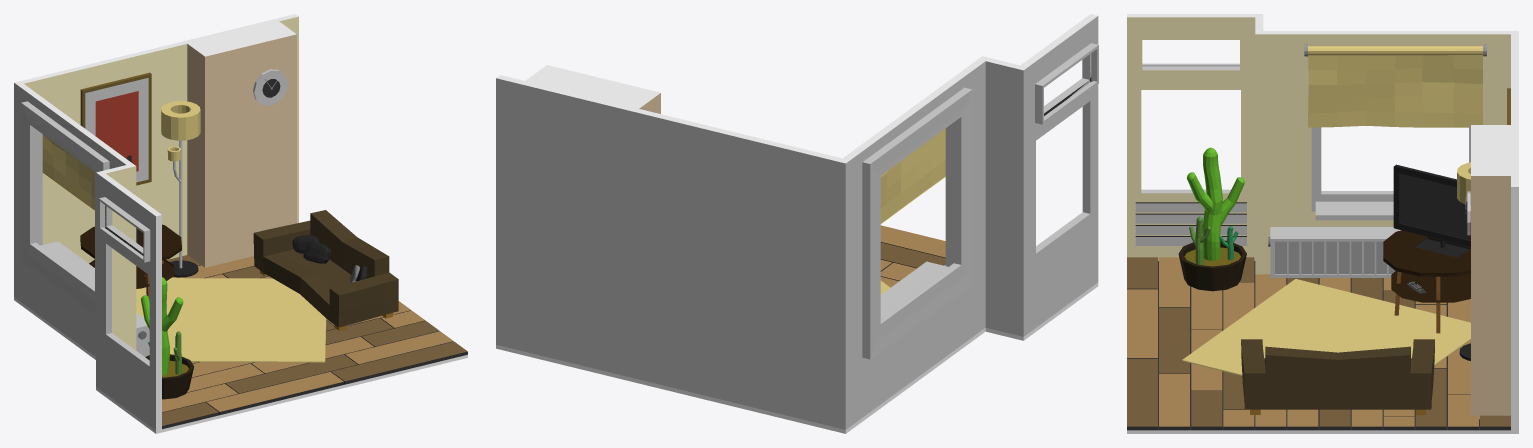
File: house.gltf
The picture shows the model from 3 angles, left to right: view 1: azimuth 30°, elevation 25°; view 2: azimuth 150°, elevation 25°; view 3: azimuth 270°, elevation 25°; orthographic projection. The views are drawn at different scales.
Visible parts, largest first — view 1: House, Carpet, Sofa, paint, Lamp, Roller blind, Table, Cactus, Clock, Plant pot, Heater, Pillow1; view 2: House, Roller blind; view 3: House, Roller blind, Carpet, Sofa, Heater, Tv, Table, under window planes, Cactus, Plant pot, Lamp, Cactus.001.
Boxes of the visible parts, x1,y1,x2,y2 form: House: (14, 14, 467, 433); Carpet: (136, 278, 326, 362); Sofa: (253, 210, 398, 330); paint: (80, 72, 151, 185); Lamp: (161, 101, 200, 277); Roller blind: (42, 134, 94, 210); Table: (80, 224, 181, 300); Cactus: (141, 277, 183, 375); Clock: (253, 69, 287, 105); Plant pot: (145, 354, 193, 399); Heater: (136, 312, 149, 356); Pillow1: (303, 241, 330, 263); House: (496, 14, 1098, 433); Roller blind: (880, 128, 945, 223); House: (1127, 14, 1518, 433); Roller blind: (1304, 44, 1486, 127); Carpet: (1182, 279, 1470, 375); Sofa: (1241, 339, 1434, 414); Heater: (1268, 227, 1400, 277); Tv: (1393, 164, 1470, 257); Table: (1383, 230, 1470, 333); under window planes: (1135, 202, 1246, 245); Cactus: (1187, 147, 1244, 260); Plant pot: (1178, 240, 1246, 291); Lamp: (1457, 162, 1470, 360); Cactus.001: (1189, 216, 1210, 265).
Size of the model in its own units: 10.4 by 6.8 by 9.77.
